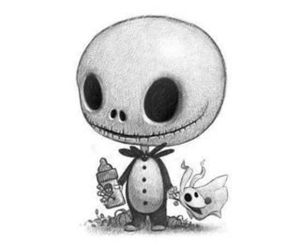Jack Skellington: (76, 15, 228, 232)
